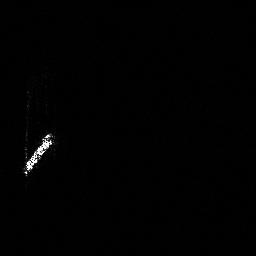ship: (18, 126, 60, 179)
